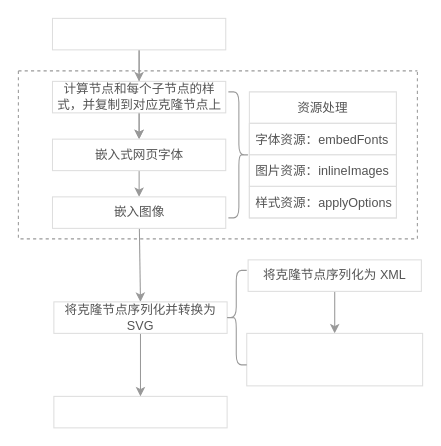
This 441x446 diagram has some shape labels left out. Here are the shapes that lost their labels. From the top down, the centre of each, then its label:
At [138,33]: "递归地克隆原始 DOM节点".
At [334,359]: "将 XML包装到<foreignObject>标记中，然后包装到 SVG中，然后使其成为一个数据 URL".
At [140,411]: "绘制 SVG 到画布".
